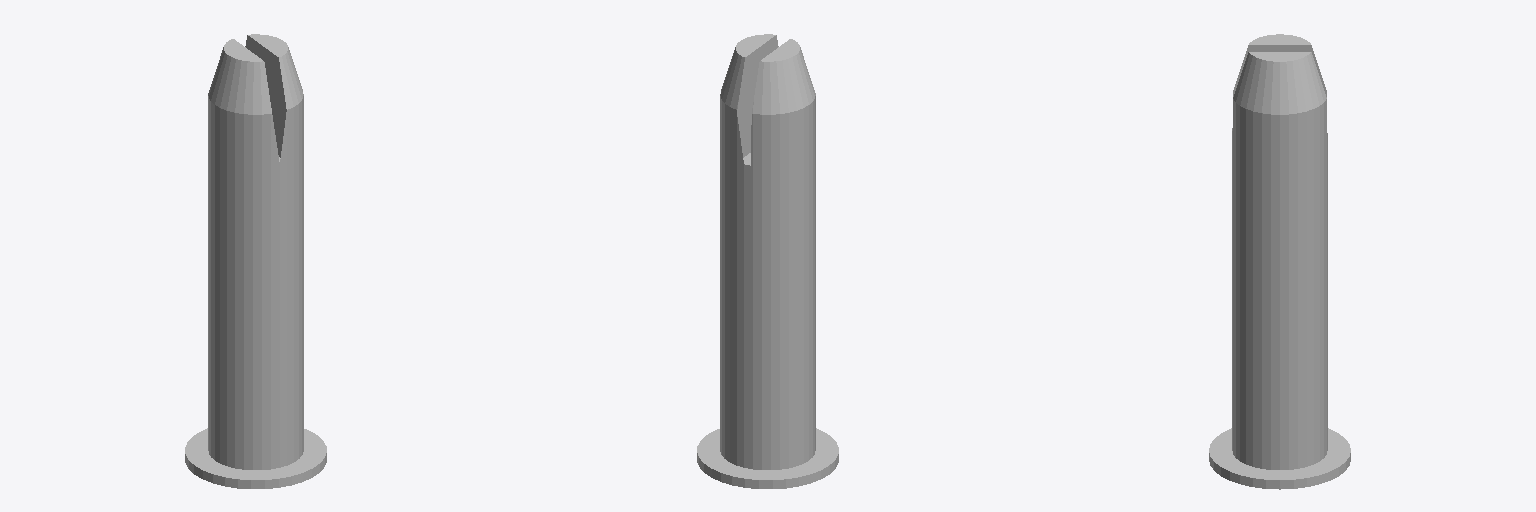
Rendered from Eje barrefondos.obj.
3 renders of one model, left to right at view 1: azimuth 30°, elevation 25°; view 2: azimuth 150°, elevation 25°; view 3: azimuth 270°, elevation 25°, orthographic.
Visible parts, largest first — view 1: Barrefondos; view 2: Barrefondos; view 3: Barrefondos.
Boxes of the visible parts, x1,y1,x2,y2 form: Barrefondos: [185, 34, 326, 488]; Barrefondos: [697, 34, 838, 488]; Barrefondos: [1209, 34, 1350, 489].
Size of the model in its own units: 1.36 by 4.4 by 1.36.